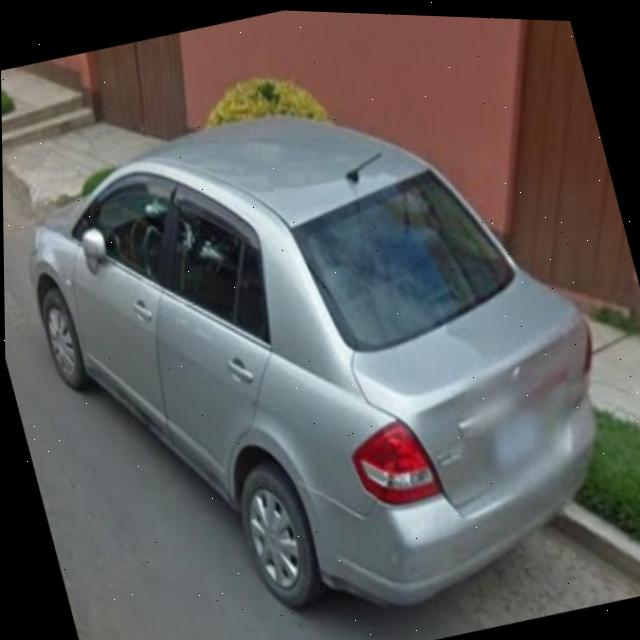vehicle: (12, 60, 627, 640)
